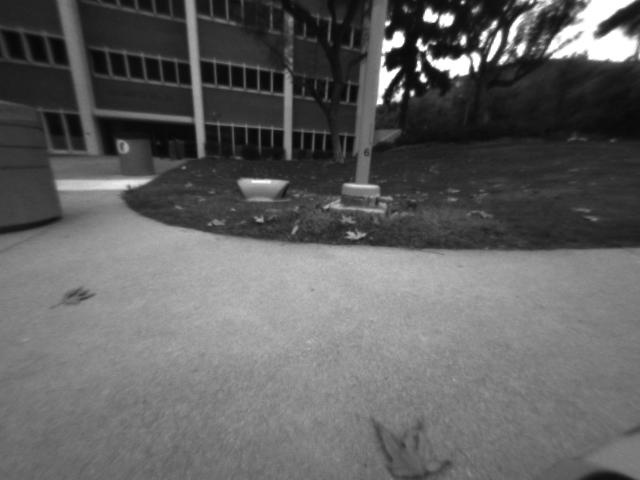trashcan: (117, 136, 152, 178)
